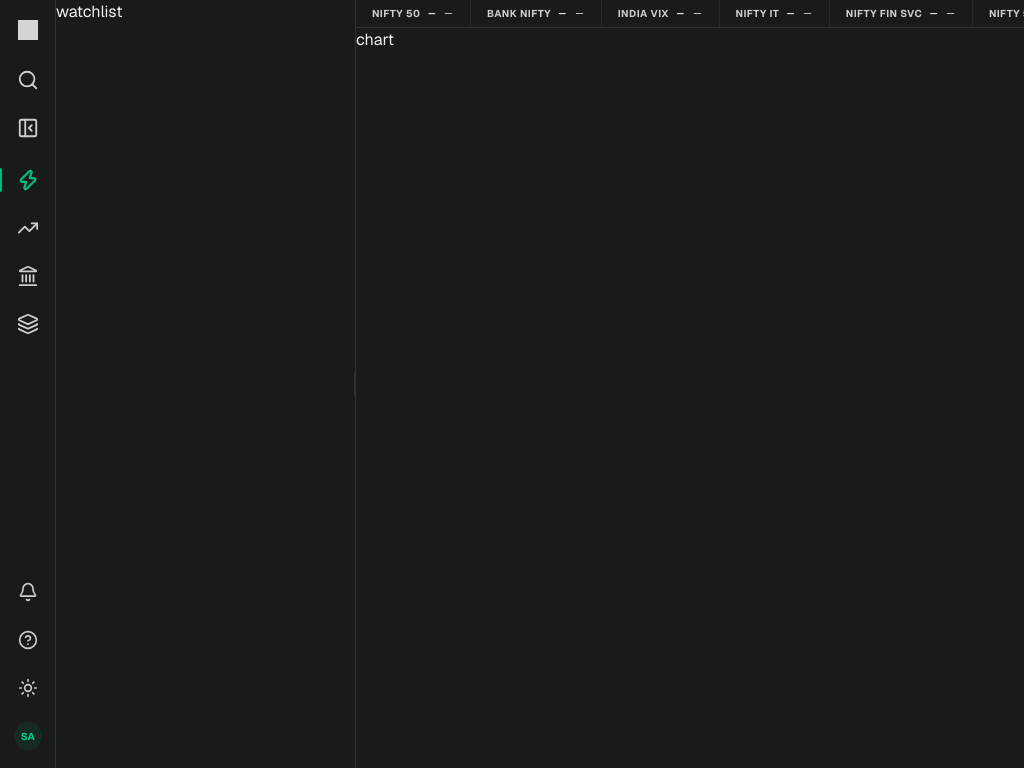
Test: the Market Watch toggle in the nav rail › brings the column BACK — the toggle is not one-way
Step 1. Click the button titled "Market Watch" → coordinates (28, 128), box x1=0 y1=106 x2=55 y2=150
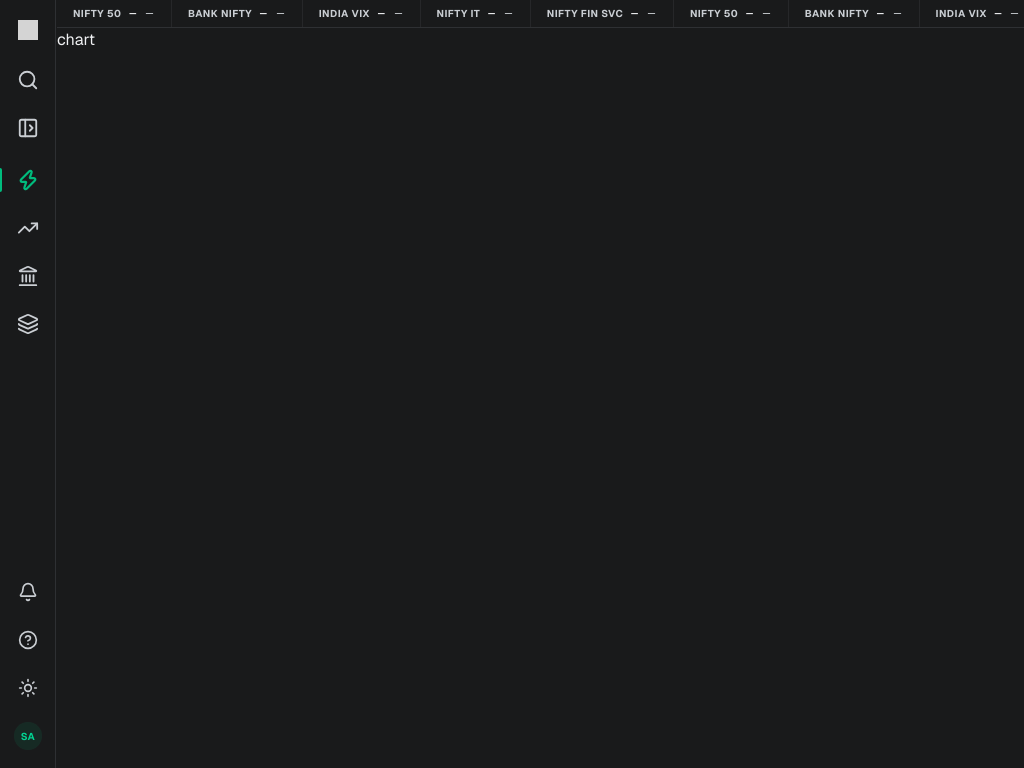
Now the button titled "Market Watch" has attribute title="Show Market Watch"
Now the button titled "Market Watch" is not pressed
Step 2. Click the button titled "Market Watch" → coordinates (28, 128), box x1=0 y1=106 x2=55 y2=150
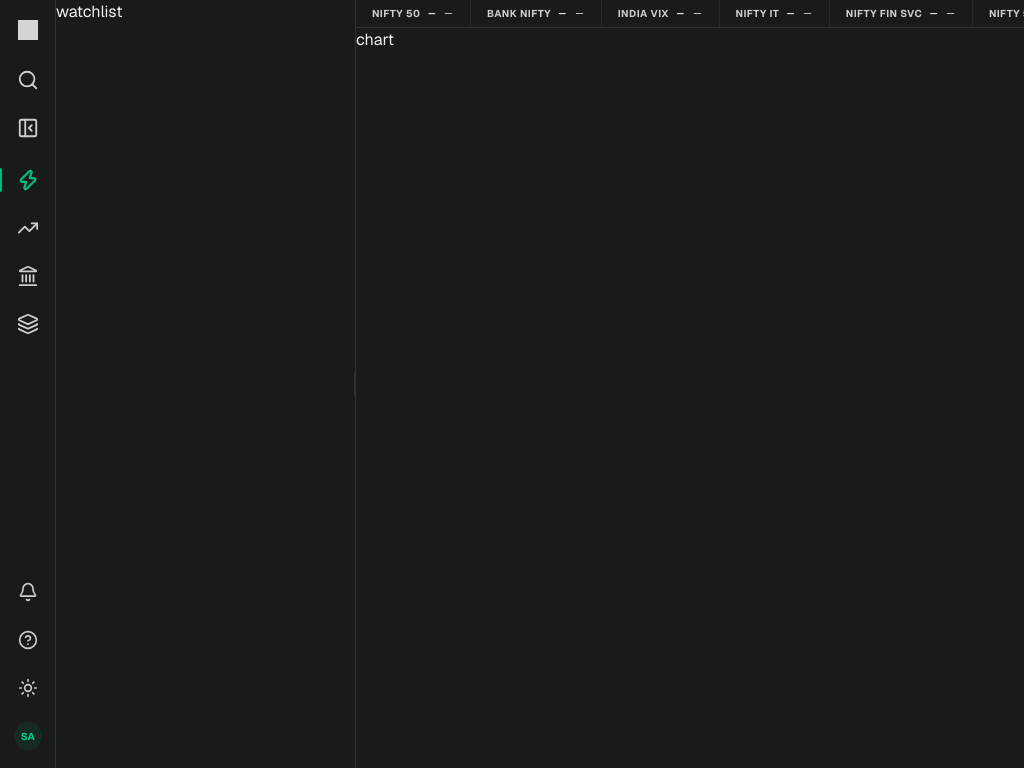
Now the element with test id "left-panel-content" is shown, box x1=56 y1=0 x2=356 y2=767
